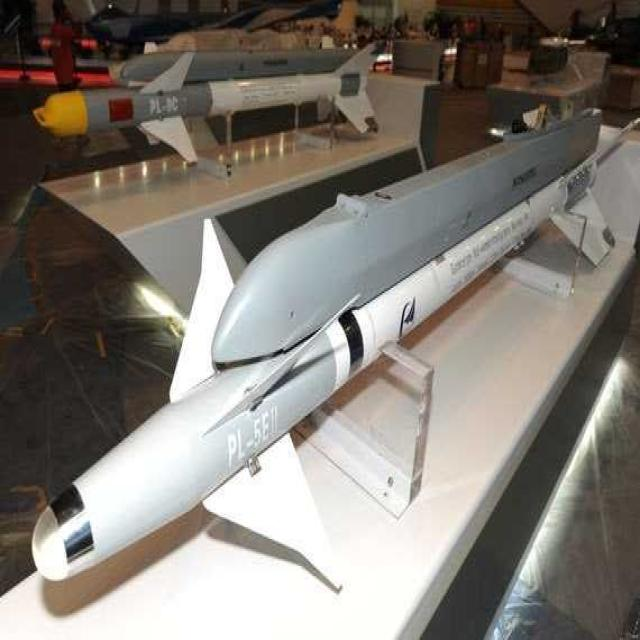missile: (36, 136, 620, 605), (39, 37, 381, 152)
